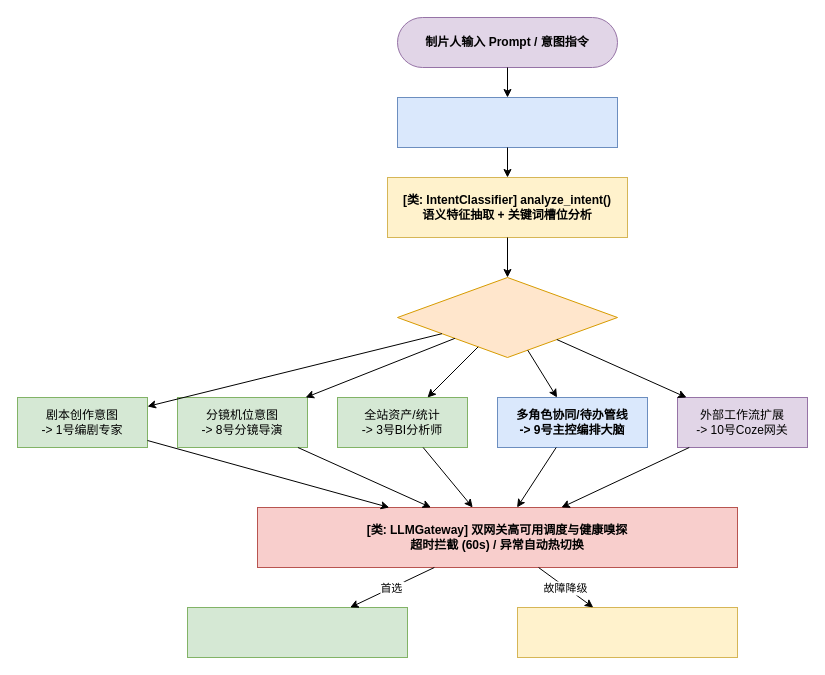
Some shapes in this 825 by 675 pixel diagram are drawn without their labels. Each missing label, with the box of its shape:
[路由网关] AgentMeshRouter POST /api/v1/agent-mesh/chat: (396, 96, 618, 148)
主通道: 云端高性能大模型 (MiniMax / DeepSeek / Qwen-Max): (186, 606, 408, 658)
备选通道: 本地私有化 Ollama (Qwen2.5:7b-instruct 离线保底): (516, 606, 738, 658)
意图类型判定 (Intent Branch): (396, 276, 618, 358)
